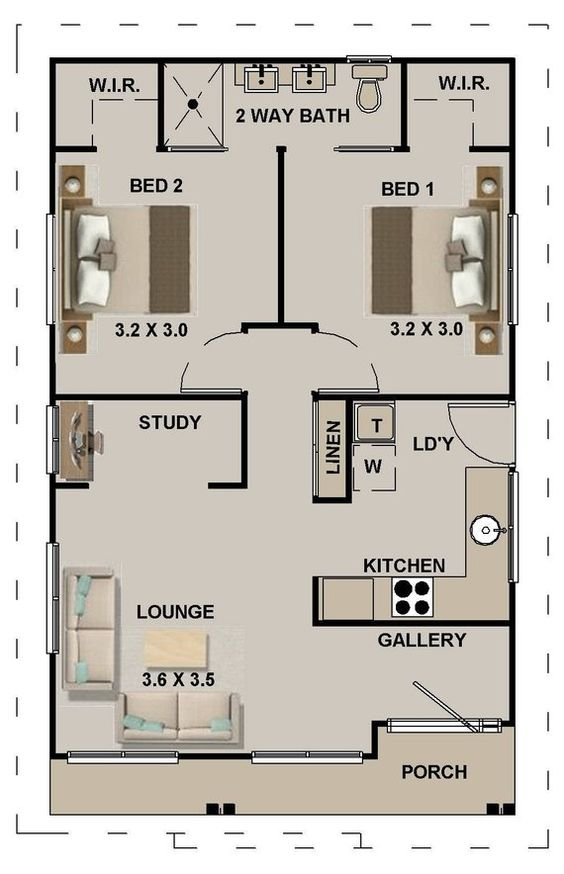room: (278, 58, 516, 401), (49, 57, 283, 400), (311, 394, 515, 626), (158, 56, 408, 151), (48, 393, 247, 490)
window: (249, 748, 362, 763), (68, 749, 180, 764), (46, 543, 59, 654), (46, 214, 55, 325), (509, 214, 518, 325), (509, 473, 518, 584), (47, 407, 56, 472)
